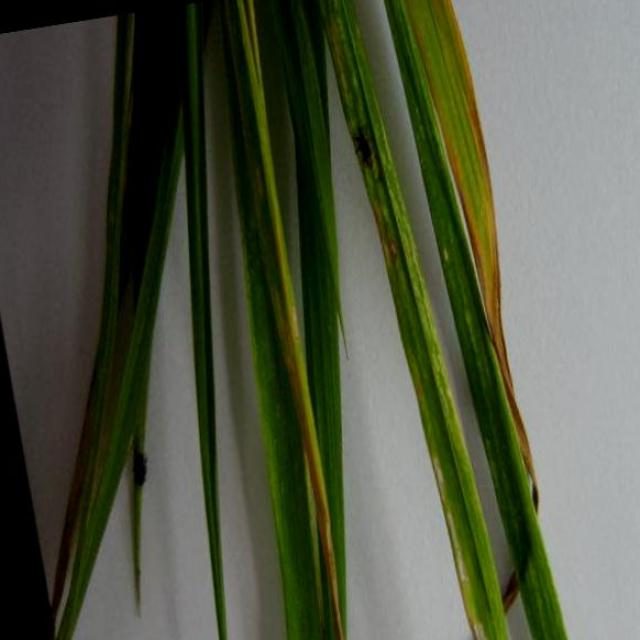ricebug: (133, 449, 146, 487)
